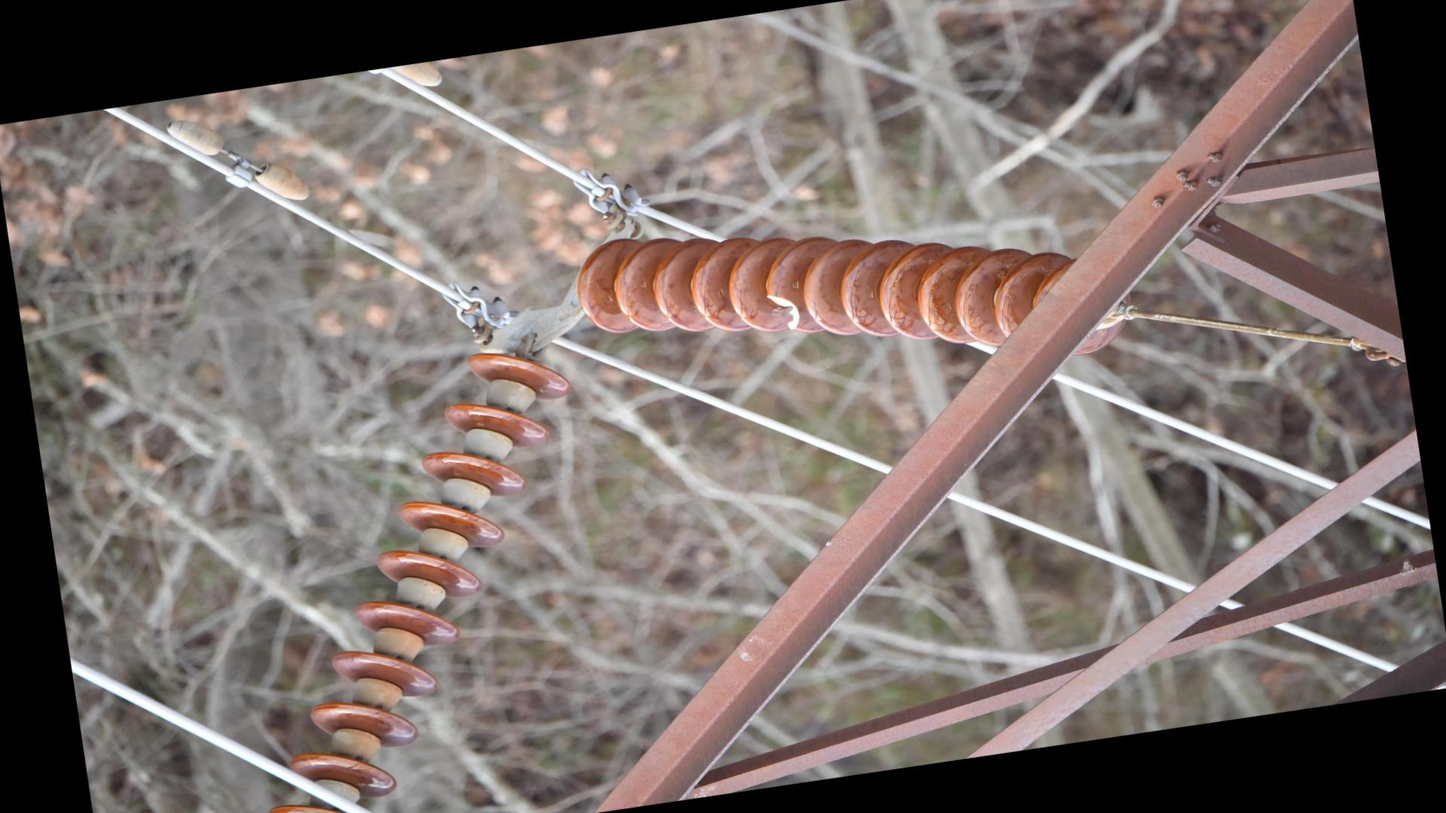damper: (157, 94, 317, 225)
